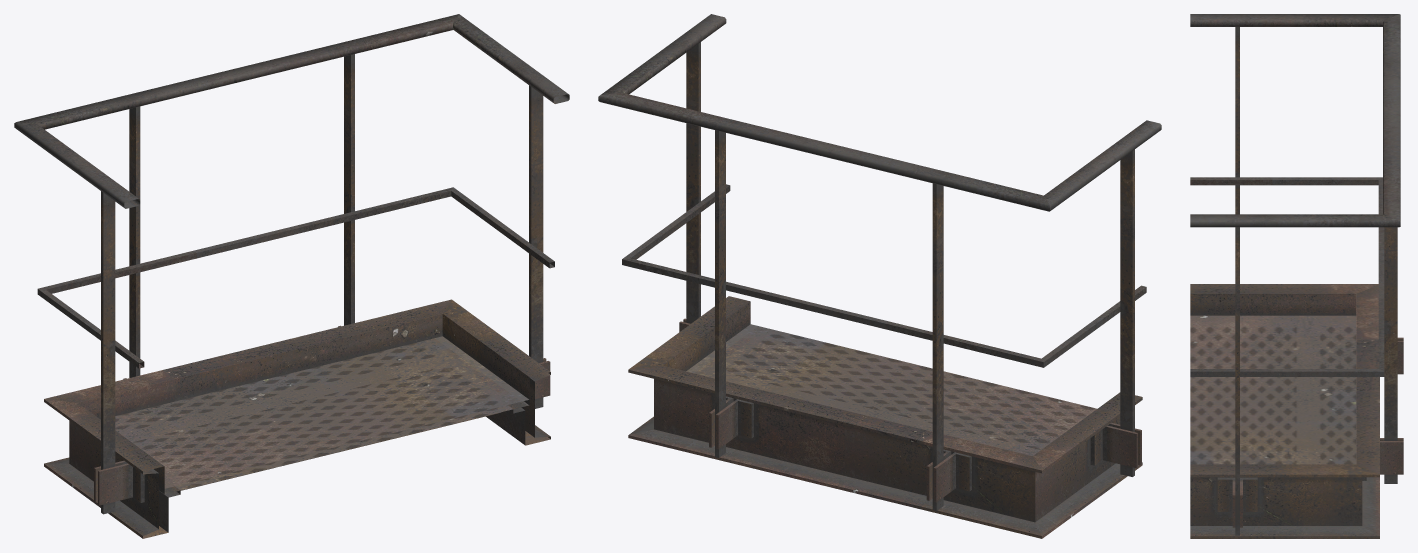
The model's file is walkway_end_a.glb.
The picture shows the model from 3 angles, left to right: view 1: azimuth 30°, elevation 25°; view 2: azimuth 150°, elevation 25°; view 3: azimuth 270°, elevation 25°; orthographic projection. The views are drawn at different scales.
Parts seen in each view (by area): view 1: walkway_end_a; view 2: walkway_end_a; view 3: walkway_end_a.
Boxes of the visible parts, box(x1,y1,x2,y2) form: walkway_end_a: box(14, 14, 569, 538); walkway_end_a: box(598, 14, 1161, 538); walkway_end_a: box(1190, 14, 1403, 538).
Bounding box in the file's own units: 1.6 × 1.16 × 0.6858.
Materials: 1 (1 with a texture image).
